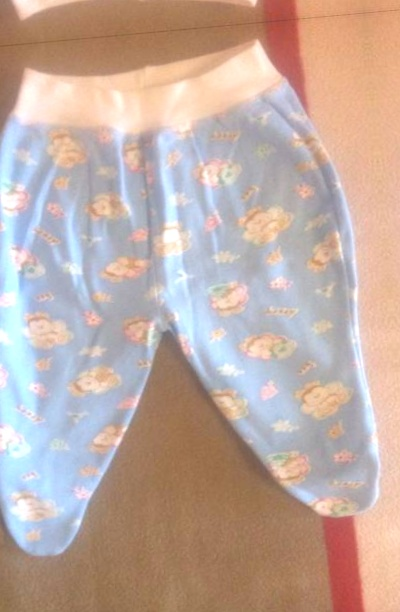Pants: (0, 33, 400, 569), (370, 0, 400, 531), (0, 0, 359, 31)
